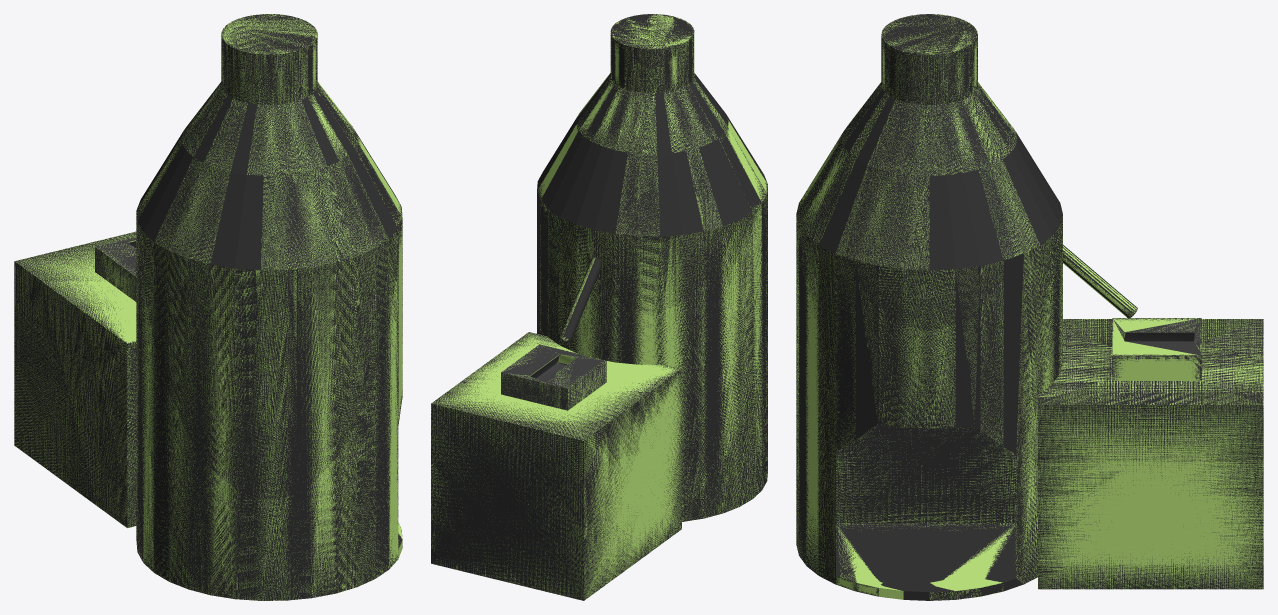
File: Forge.fbx
The picture shows the model from 3 angles, left to right: view 1: azimuth 30°, elevation 25°; view 2: azimuth 150°, elevation 25°; view 3: azimuth 270°, elevation 25°; orthographic projection. The views are drawn at different scales.
Visible parts, largest first — view 1: Forge, UTM_Forge; view 2: Forge, UTM_Forge; view 3: Forge, UTM_Forge.
Boxes of the visible parts, left/top/right/bottom form: Forge: left=14, top=14, right=402, bottom=600; UTM_Forge: left=14, top=14, right=402, bottom=600; Forge: left=431, top=14, right=767, bottom=600; UTM_Forge: left=431, top=14, right=767, bottom=599; Forge: left=796, top=14, right=1263, bottom=600; UTM_Forge: left=796, top=14, right=1263, bottom=600.
Bounding box in the file's own units: 144 × 305 × 253.
